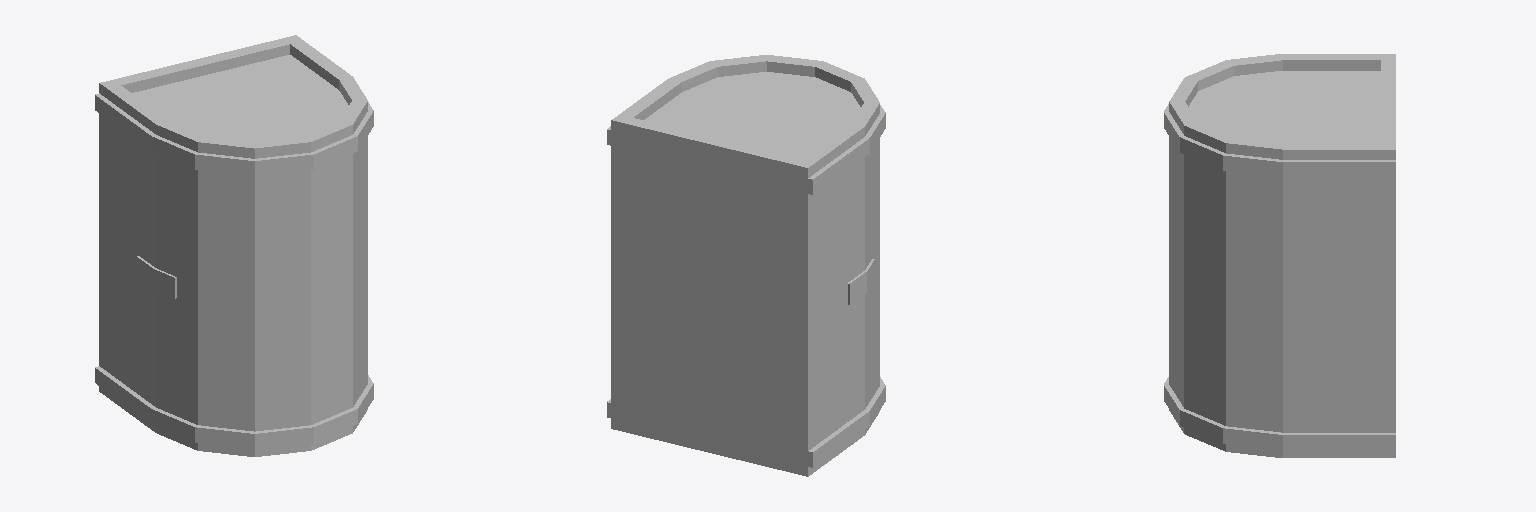
Rendered from chest.obj.
3 views of the same model, side by side, from view 1: azimuth 30°, elevation 25°; view 2: azimuth 150°, elevation 25°; view 3: azimuth 270°, elevation 25° (orthographic).
Visible parts, largest first — view 1: Cylinder; view 2: Cylinder; view 3: Cylinder.
Part boxes in pixels (left/top/right/bottom): Cylinder: left=95, top=35, right=373, bottom=456; Cylinder: left=607, top=55, right=885, bottom=476; Cylinder: left=1164, top=54, right=1395, bottom=457.
Bounding box in the file's own units: 2.1 × 3 × 2.05.